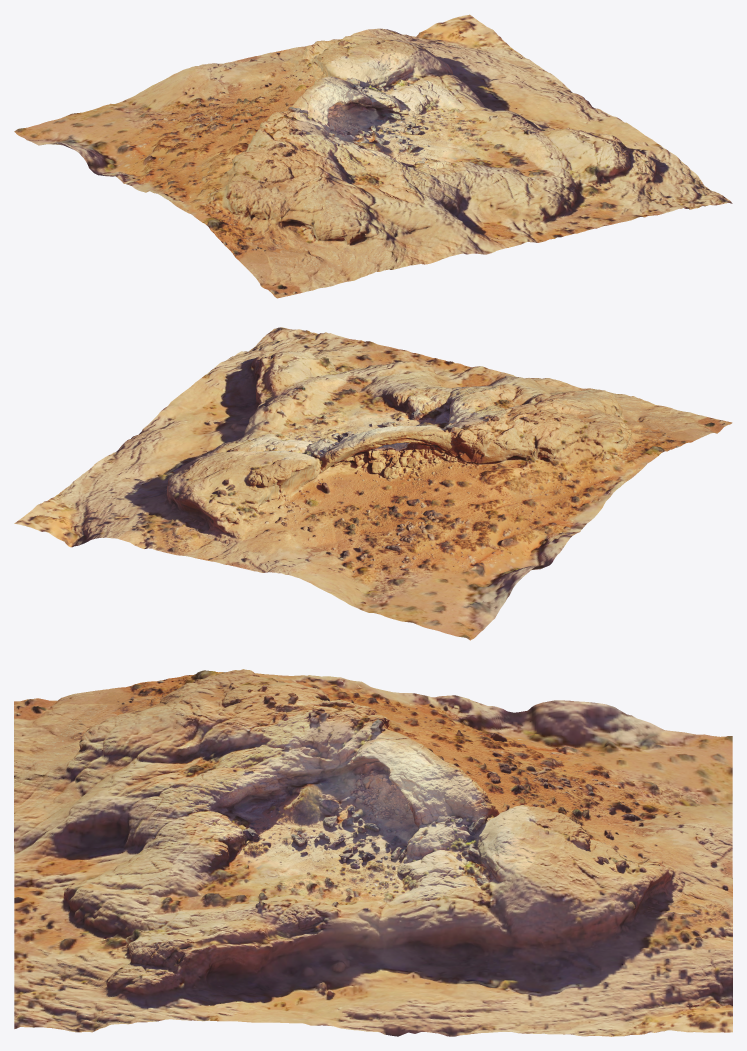
The model's file is moonrise.glb.
The picture shows the model from 3 angles, top to bottom: view 1: azimuth 30°, elevation 25°; view 2: azimuth 150°, elevation 25°; view 3: azimuth 270°, elevation 25°; orthographic projection. The views are drawn at different scales.
Visible parts, largest first — view 1: Object_2, Object_3; view 2: Object_2, Object_3; view 3: Object_2, Object_3.
Part boxes in pixels (<box>): Object_2: <box>21,17,732,278</box>; Object_3: <box>14,14,663,298</box>; Object_2: <box>18,327,703,635</box>; Object_3: <box>14,351,732,640</box>; Object_2: <box>14,669,732,1036</box>; Object_3: <box>14,670,732,1032</box>.
Size of the model in its own units: 71.32 by 13.07 by 71.18.
Materials: 2 (2 with a texture image).
